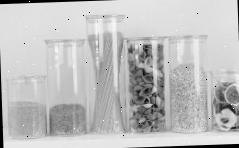glass: (2, 9, 239, 141)
